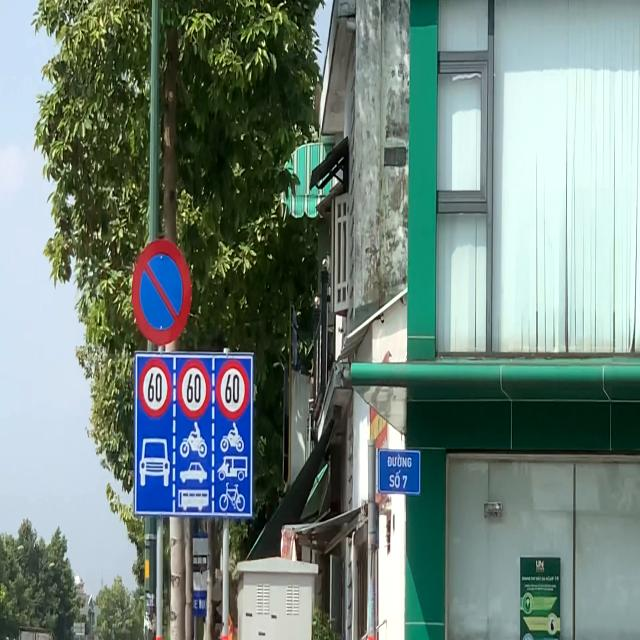P.127: (138, 357, 172, 419), (215, 360, 250, 420), (177, 358, 211, 419)
P.131a: (132, 238, 192, 346)
